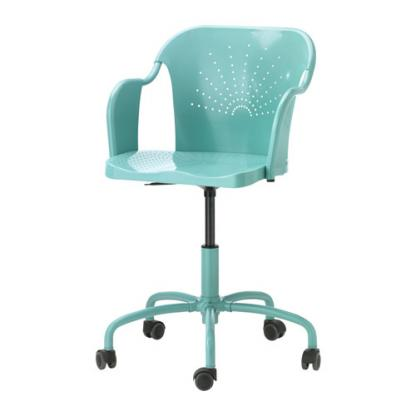Chair: (90, 21, 326, 395)
